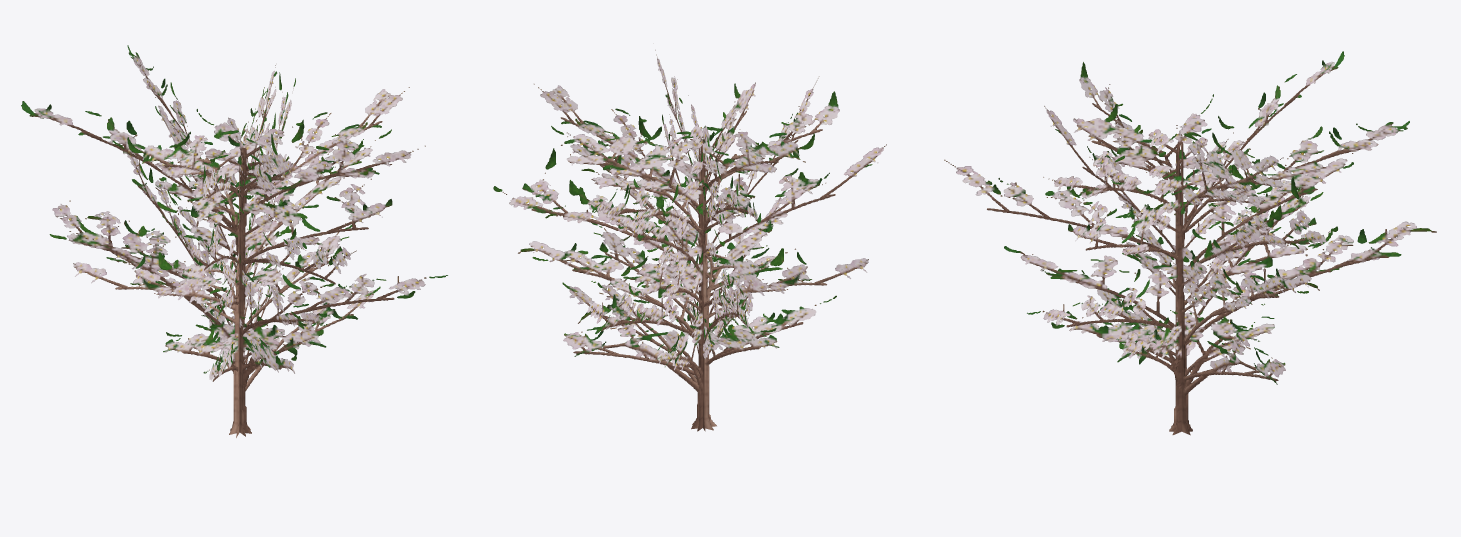
Rendered from asset.glb.
3 views of the same model, side by side, from view 1: azimuth 30°, elevation 25°; view 2: azimuth 150°, elevation 25°; view 3: azimuth 270°, elevation 25° (orthographic). The views are drawn at different scales.
Parts seen in each view (by area): view 1: BackgroundTree; view 2: BackgroundTree; view 3: BackgroundTree.
Boxes of the visible parts, x1,y1,x2,y2 form: BackgroundTree: [21, 45, 447, 437]; BackgroundTree: [493, 50, 886, 431]; BackgroundTree: [944, 51, 1436, 435].
Size of the model in its own units: 2.71 by 2.3 by 3.28.
Materials: 1 (1 with a texture image).
